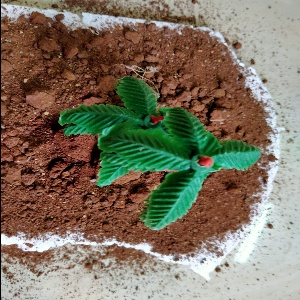plant: (56, 75, 265, 235)
